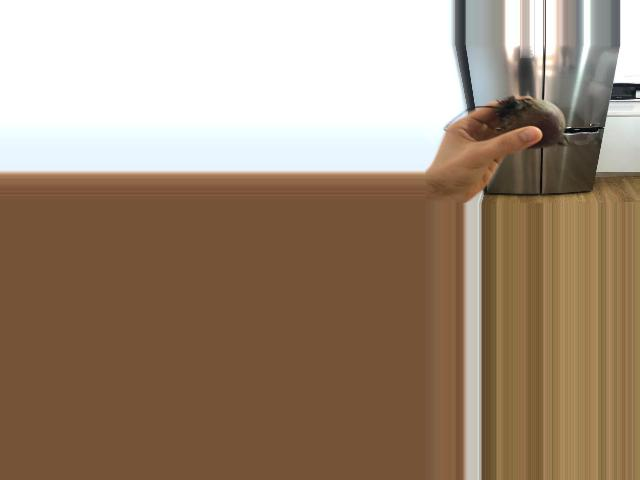beet: (444, 96, 577, 148)
